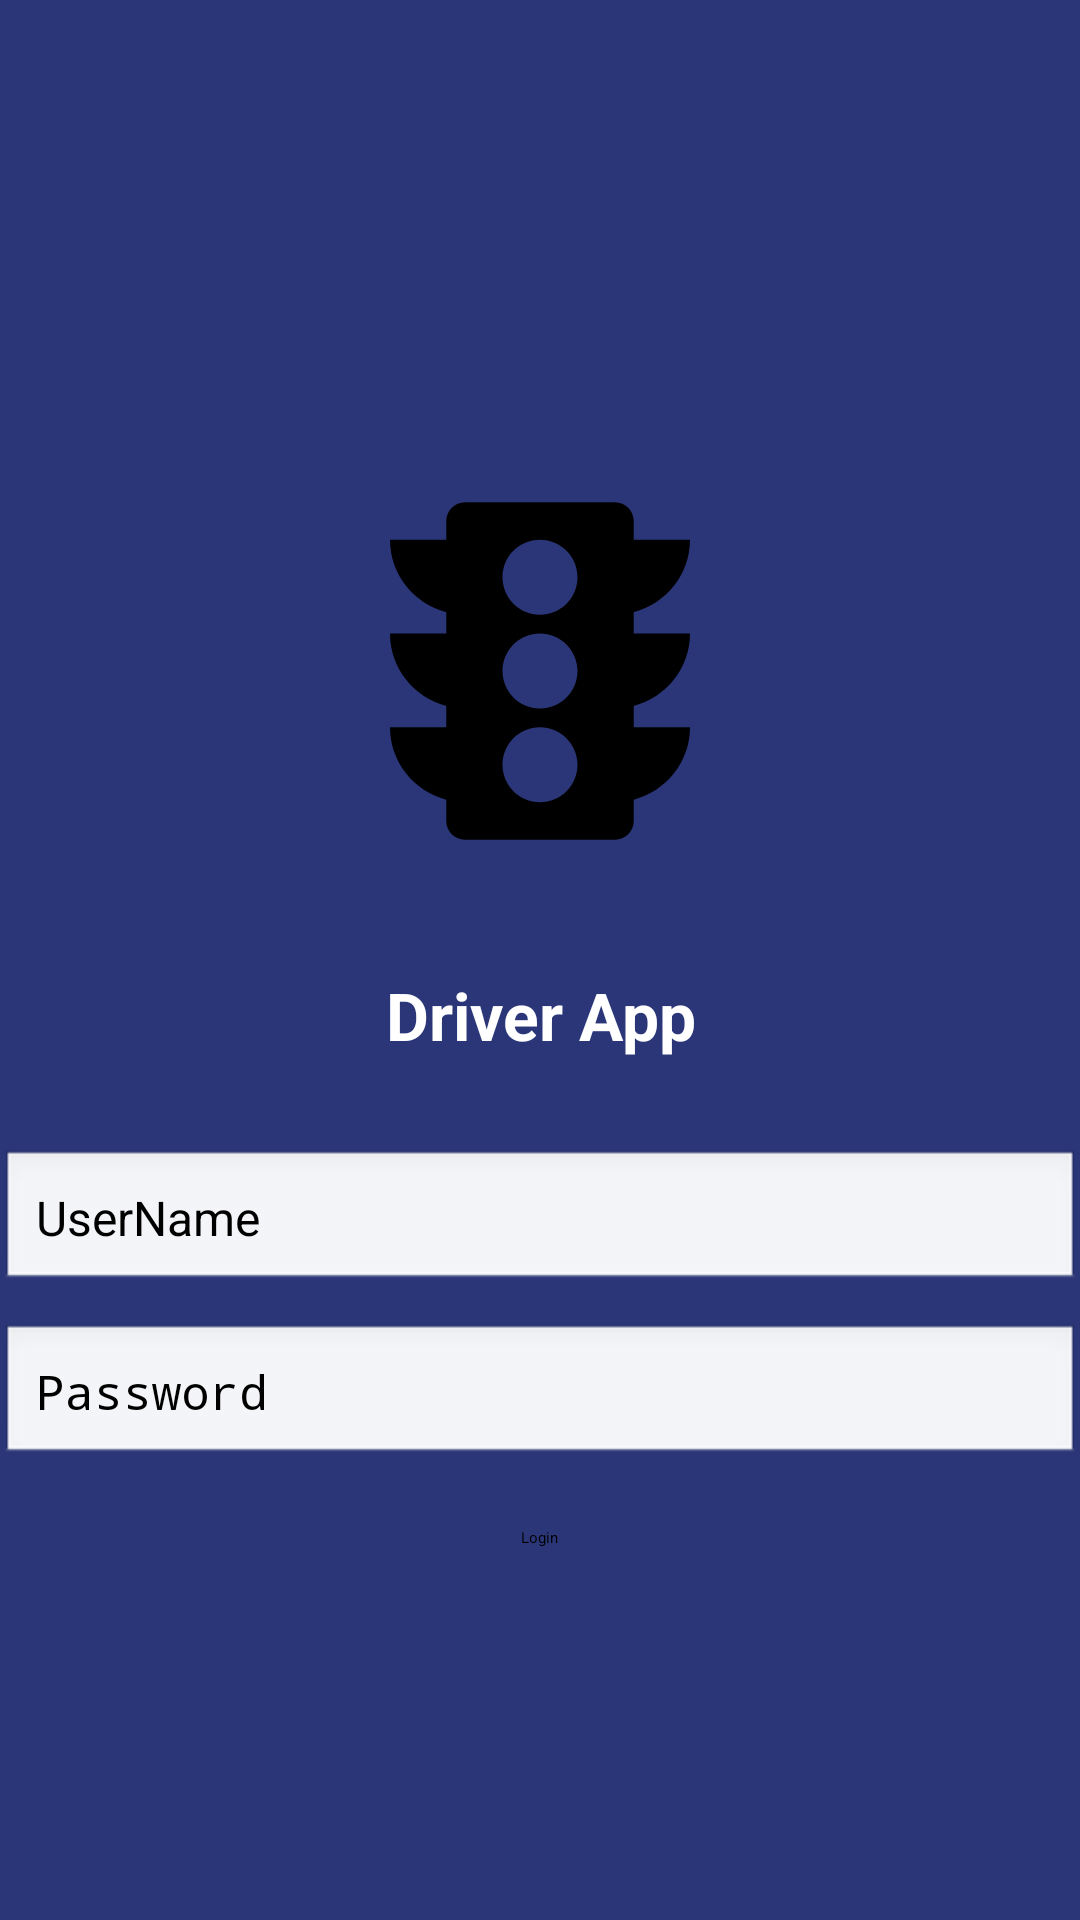

Named icons in this screenshot (1080*1920) and their bounding boxes, rect(x1, y1, x2, y2):
traffic: rect(390, 502, 690, 840)
